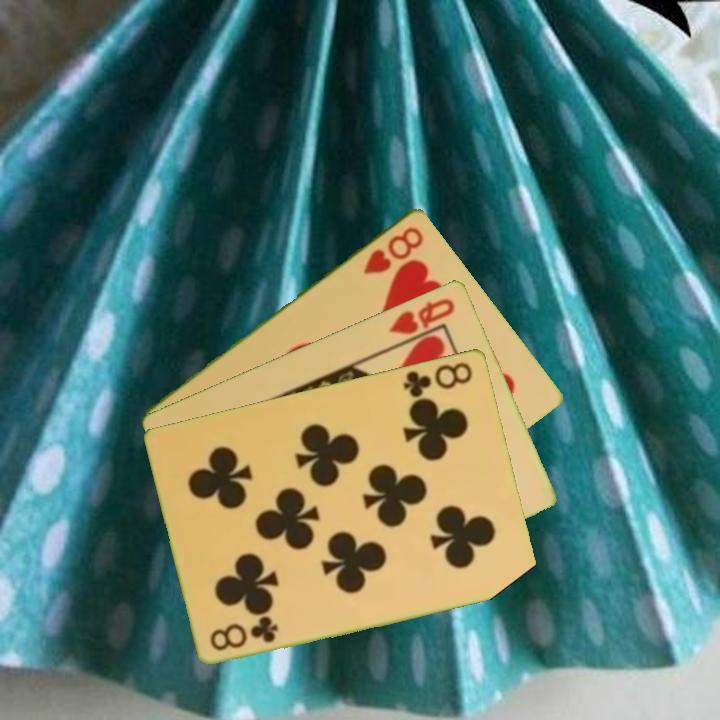8c: (399, 358, 476, 400), (206, 614, 282, 653)
8h: (359, 222, 427, 277)
Qh: (385, 294, 458, 348)
